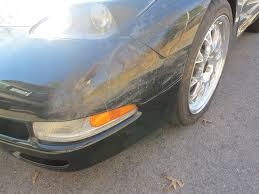Scratch: (46, 3, 194, 120)
